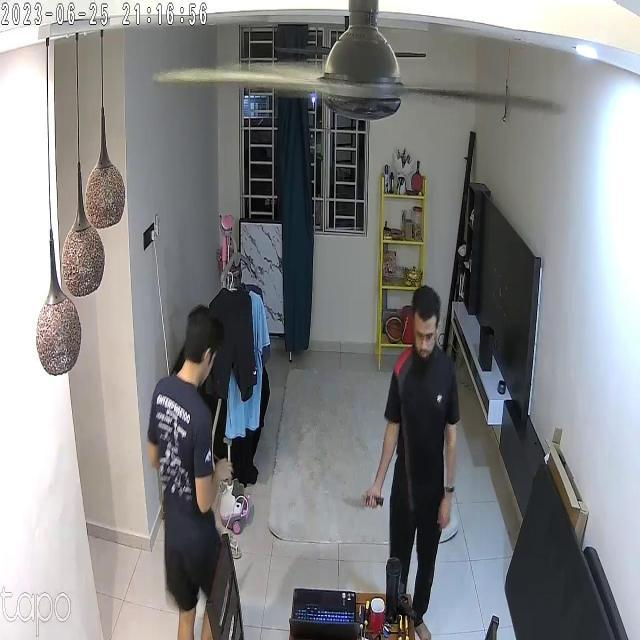Knife: (341, 480, 390, 515)
